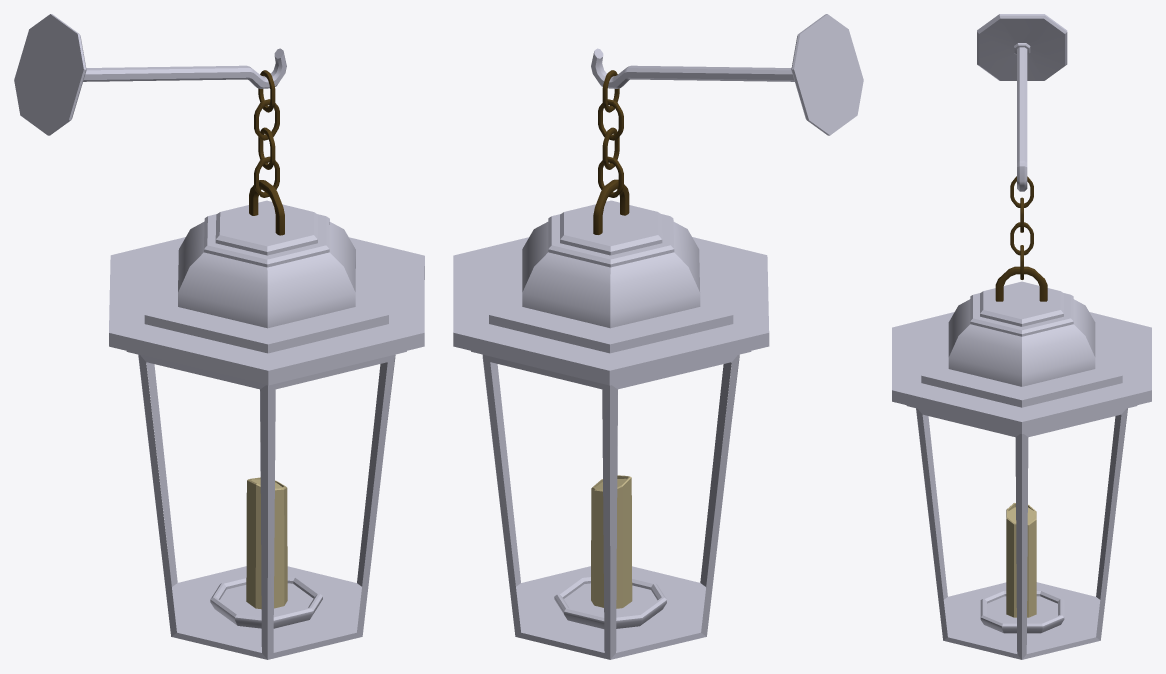
Rendered from HangingLight.fbx.
The picture shows the model from 3 angles, left to right: view 1: azimuth 30°, elevation 25°; view 2: azimuth 150°, elevation 25°; view 3: azimuth 270°, elevation 25°; orthographic projection. The views are drawn at different scales.
Visible parts, largest first — view 1: pCube492; view 2: pCube492; view 3: pCube492.
Boxes of the visible parts, <box> form: pCube492: <box>14,14,424,659</box>; pCube492: <box>453,14,863,659</box>; pCube492: <box>892,14,1151,659</box>.
Bounding box in the file's own units: 0.5666 × 0.8928 × 0.3963.
